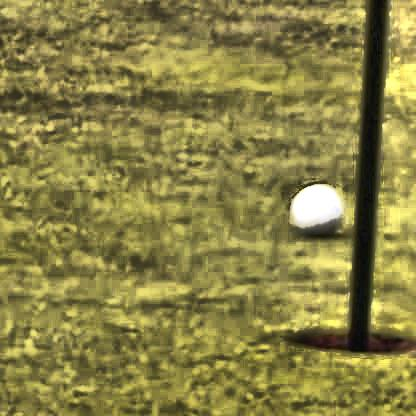golfball: (287, 182, 341, 233)
